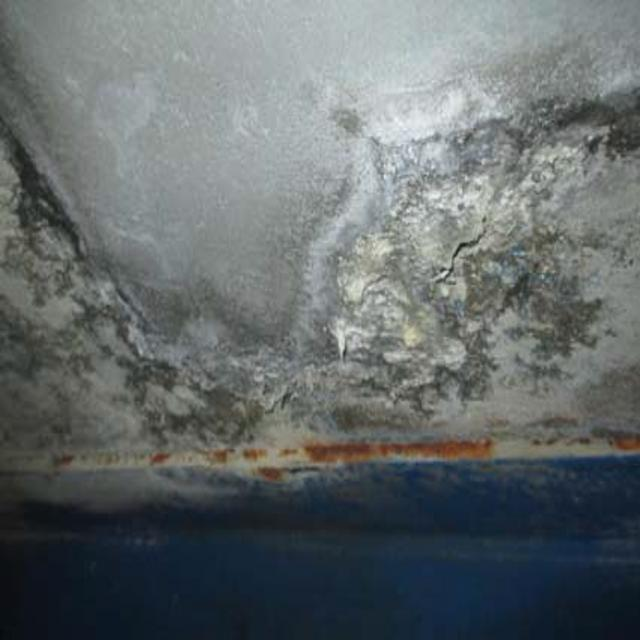corrosion: (32, 420, 637, 483)
freelime: (23, 137, 616, 403)
